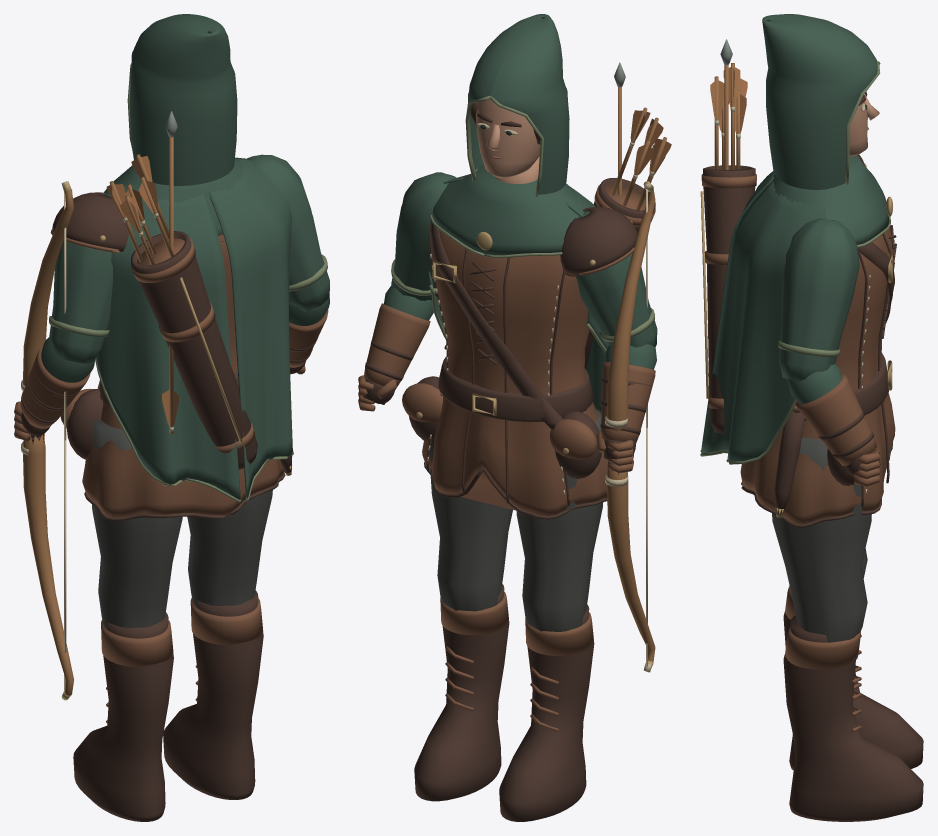
File: archer-ranger.glb
3 views of the same model, side by side, from view 1: azimuth 30°, elevation 25°; view 2: azimuth 150°, elevation 25°; view 3: azimuth 270°, elevation 25° (orthographic). The views are drawn at different scales.
Parts seen in each view (by area): view 1: Doublet Lana de pino, RangerHead Lana de pino, LegLeft Cuero encerado, LegRight Cuero encerado, Carcaj Cuero encerado, Doublet Jubón de avellana, LegLeft Calzas de carbón, Longbow Tejo, LegRight Calzas de carbón, SleeveLeft Lana de pino, SleeveRight Lana de pino, Doublet Cuero encerado (+14 smaller); view 2: Doublet Jubón de avellana, Doublet Cuero encerado, LegRight Cuero encerado, LegLeft Cuero encerado, Doublet Lana de pino, RangerHead Lana de pino, LegLeft Calzas de carbón, LegRight Calzas de carbón, Longbow Tejo, SleeveRight Lana de pino, RangerHead Piel tostada, SleeveLeft Cuero encerado (+18 smaller); view 3: Doublet Lana de pino, RangerHead Lana de pino, LegRight Cuero encerado, Doublet Jubón de avellana, LegRight Calzas de carbón, SleeveRight Lana de pino, Doublet Cuero encerado, Carcaj Cuero encerado, BracerRight Jubón de avellana, LegLeft Cuero encerado, LegRight Jubón de avellana, Carcaj Tejo (+12 smaller).
Part boxes in pixels (left/top/right/bottom): Doublet Lana de pino: left=96, top=157, right=292, bottom=499; RangerHead Lana de pino: left=129, top=14, right=237, bottom=185; LegLeft Cuero encerado: left=73, top=612, right=173, bottom=821; LegRight Cuero encerado: left=163, top=590, right=263, bottom=799; Carcaj Cuero encerado: left=131, top=231, right=257, bottom=469; Doublet Jubón de avellana: left=60, top=234, right=284, bottom=517; LegLeft Calzas de carbón: left=92, top=420, right=182, bottom=628; Longbow Tejo: left=23, top=191, right=74, bottom=695; LegRight Calzas de carbón: left=187, top=490, right=272, bottom=607; SleeveLeft Lana de pino: left=49, top=194, right=112, bottom=363; SleeveRight Lana de pino: left=247, top=154, right=329, bottom=311; Doublet Cuero encerado: left=66, top=371, right=292, bottom=521; Doublet Jubón de avellana: left=402, top=230, right=607, bottom=516; Doublet Cuero encerado: left=409, top=220, right=607, bottom=519; LegRight Cuero encerado: left=414, top=584, right=509, bottom=801; LegLeft Cuero encerado: left=499, top=604, right=594, bottom=821; Doublet Lana de pino: left=428, top=164, right=608, bottom=413; RangerHead Lana de pino: left=468, top=14, right=569, bottom=194; LegLeft Calzas de carbón: left=516, top=409, right=603, bottom=631; LegRight Calzas de carbón: left=429, top=409, right=512, bottom=611; Longbow Tejo: left=607, top=182, right=655, bottom=672; SleeveRight Lana de pino: left=391, top=172, right=456, bottom=300; RangerHead Piel tostada: left=475, top=99, right=540, bottom=183; SleeveLeft Cuero encerado: left=560, top=206, right=637, bottom=274; Doublet Lana de pino: left=701, top=155, right=889, bottom=461; RangerHead Lana de pino: left=762, top=14, right=877, bottom=189; LegRight Cuero encerado: left=783, top=615, right=923, bottom=821; Doublet Jubón de avellana: left=740, top=227, right=895, bottom=524; LegRight Calzas de carbón: left=772, top=437, right=871, bottom=642; SleeveRight Lana de pino: left=779, top=218, right=859, bottom=381; Doublet Cuero encerado: left=741, top=225, right=896, bottom=527; Carcaj Cuero encerado: left=703, top=165, right=755, bottom=433; BracerRight Jubón de avellana: left=795, top=374, right=876, bottom=465; LegLeft Cuero encerado: left=783, top=612, right=923, bottom=770; LegRight Jubón de avellana: left=785, top=626, right=861, bottom=731; Carcaj Tejo: left=714, top=63, right=740, bottom=169.
Bounding box in the file's own units: 0.732 × 1.89 × 0.4986.
